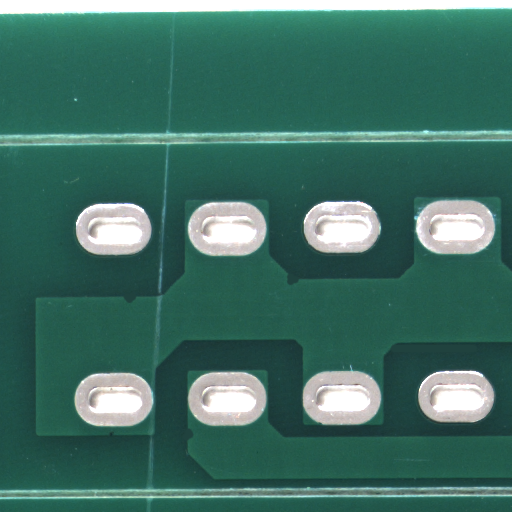Mouse_bite: (292, 279, 306, 292), (190, 436, 197, 450), (130, 299, 143, 306)
